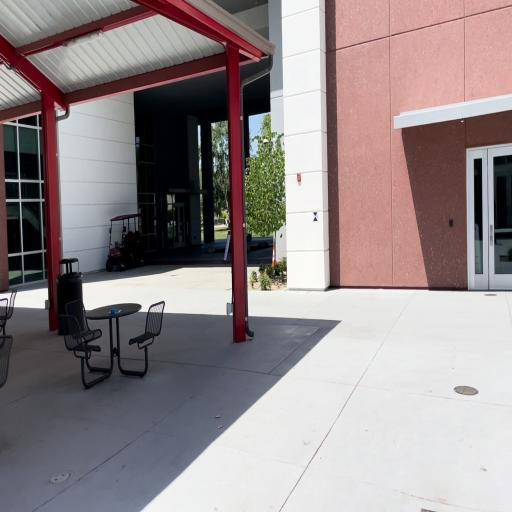target9: (313, 212, 318, 222)
